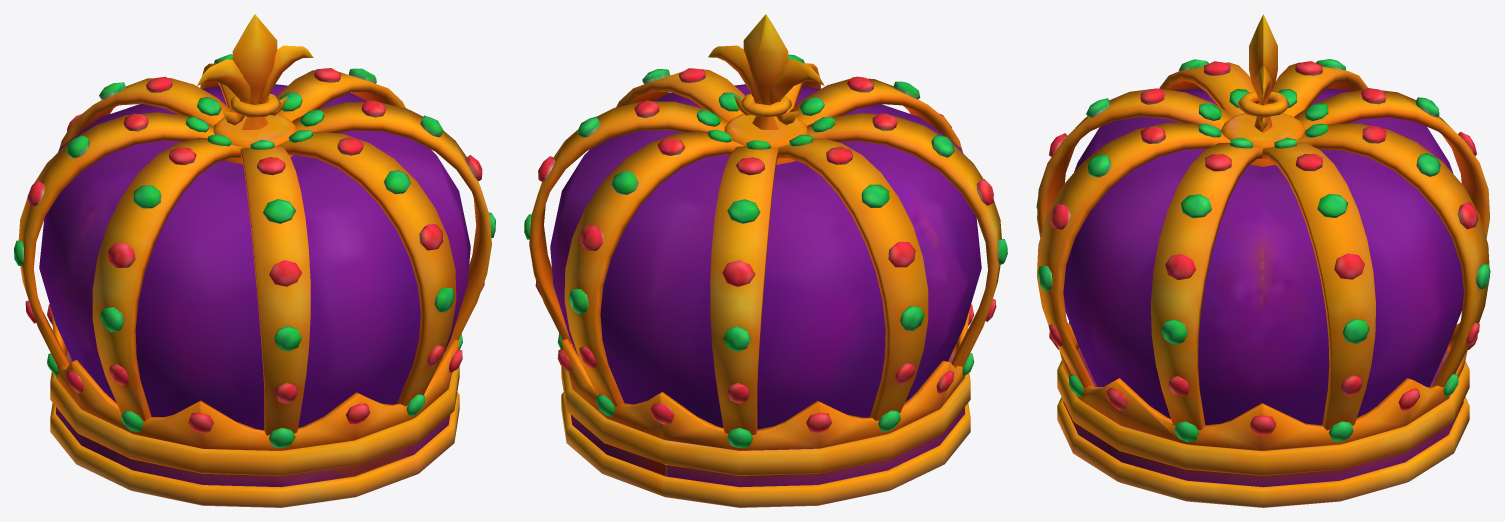
File: Crown.glb
3 renders of one model, left to right at view 1: azimuth 30°, elevation 25°; view 2: azimuth 150°, elevation 25°; view 3: azimuth 270°, elevation 25°, orthographic.
Parts seen in each view (by area): view 1: Crown; view 2: Crown; view 3: Crown.
Part boxes in pixels (x1,y1,x2,y2): Crown: (14,14,495,507); Crown: (524,14,1007,507); Crown: (1036,14,1490,507).
Bounding box in the file's own units: 0.5702 × 0.567 × 0.5702.
Materials: 1 (1 with a texture image).
